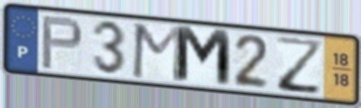2: (232, 33, 271, 90)
3: (91, 19, 129, 77)
M: (174, 23, 234, 90), (129, 21, 185, 85)
P: (39, 14, 86, 71)
Z: (274, 34, 325, 97)
